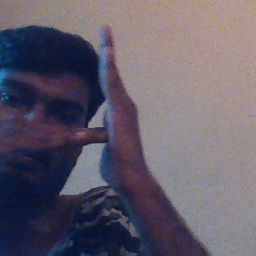Z: (43, 23, 155, 189)
